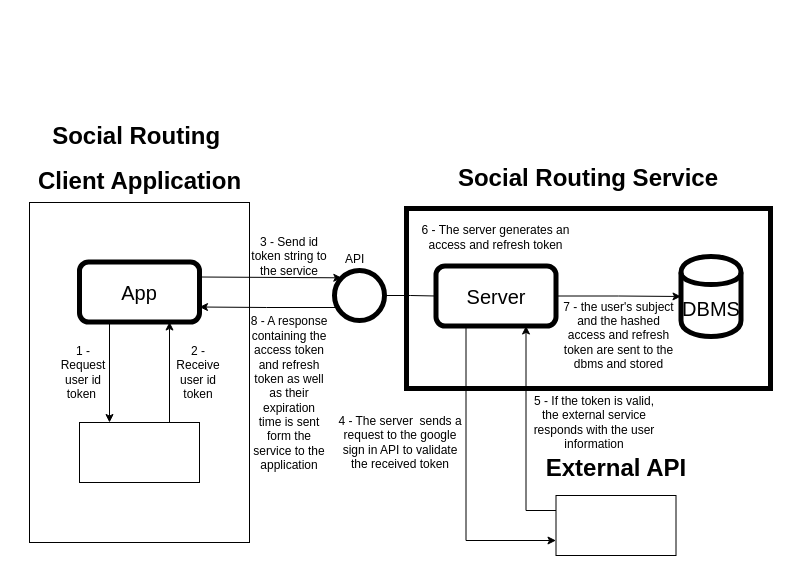
Some shapes in this 790 by 573 pixel diagram are drawn without their labels. Here are the shapes that lost their labels. From the top down, the box of each, then its label:
(78, 422, 200, 482): Google Sign In Service
(555, 494, 676, 556): Google Sign In API
